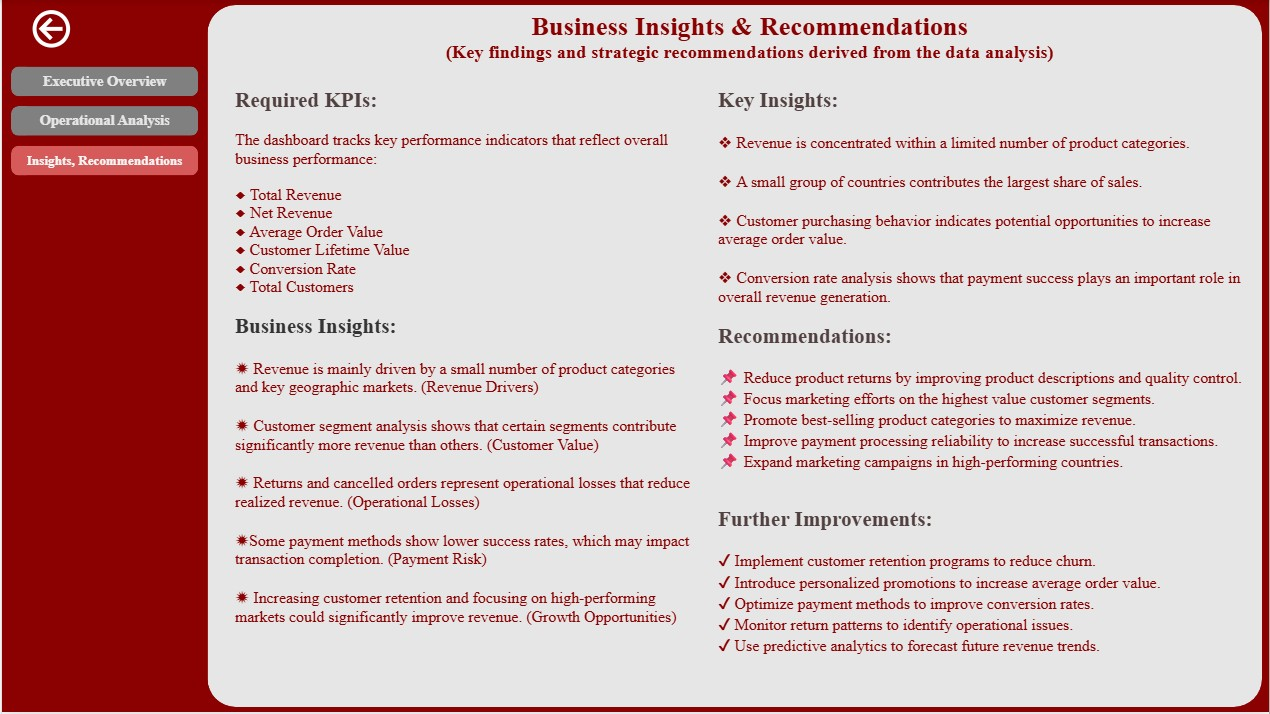

This screenshot's page, from the dashboard's own definition file:
{"tool":"powerbi","page":{"name":"Insights, Recommendations","canvas":[1280,720],"ordinal":2},"visuals":[{"type":"shape","box":[207.4,6.1,1064.5,708.6],"z":0},{"type":"pageNavigator","box":[9.6,67.4,189.4,112.4],"z":1000},{"type":"textbox","box":[230.2,6.1,1049.3,66.6],"z":2000},{"type":"actionButton","box":[25.7,6.4,115.6,48.2],"z":3000},{"type":"textbox","box":[230.2,84.8,475.5,578.4],"z":4000},{"type":"textbox","box":[717.7,84.8,554.2,616.3],"z":4001}]}

Visuals, with their boxes in screenshot pixels (x1, y1, x2, y2), scaled from the page's 1280x720 canvas onto the 1270x714 screenshot:
shape: 206:6:1262:709
pageNavigator: 10:67:197:178
textbox: 228:6:1269:72
actionButton: 25:6:140:54
textbox: 228:84:700:658
textbox: 712:84:1262:695
